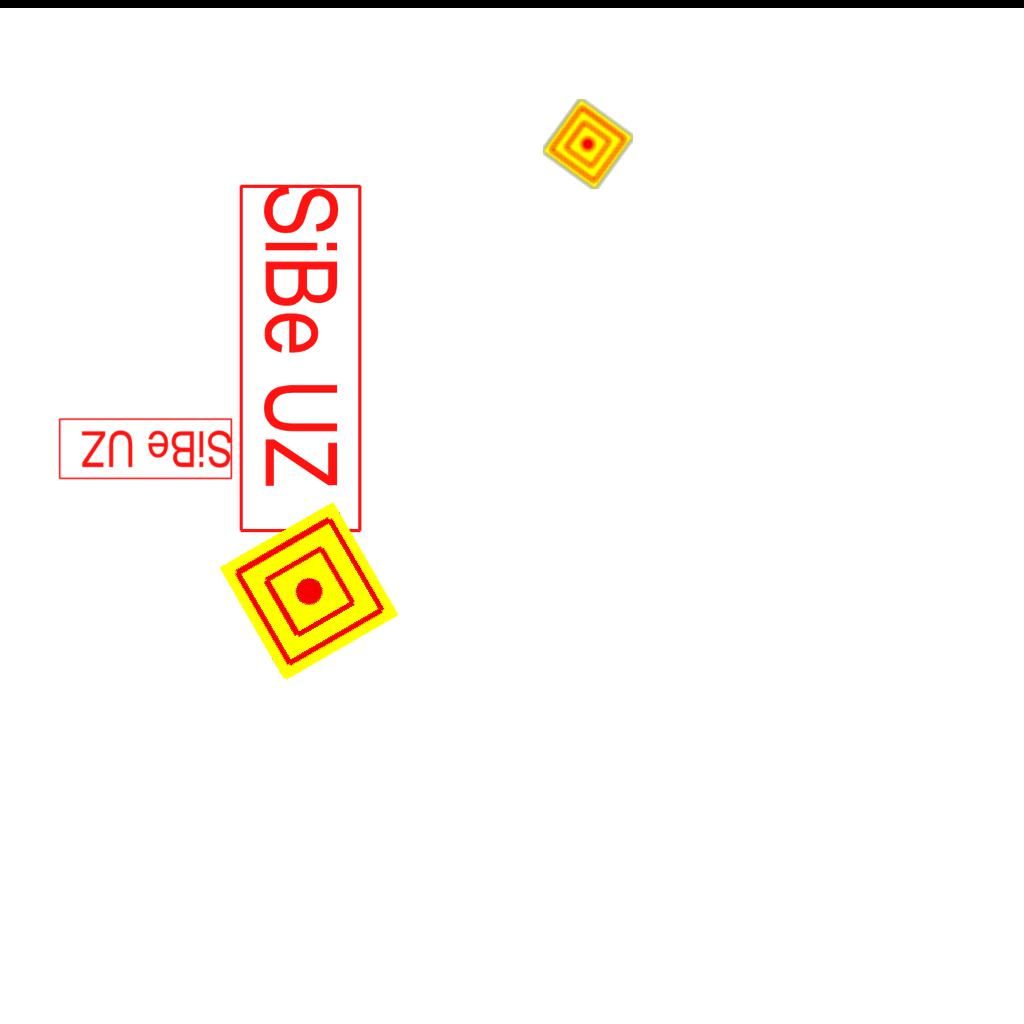NAM-Nichtautomatischer_Melder: (218, 500, 400, 682), (541, 97, 635, 191)
Zentrale_Sicherheitsbeleuchtung: (235, 181, 365, 538), (56, 416, 234, 481)
